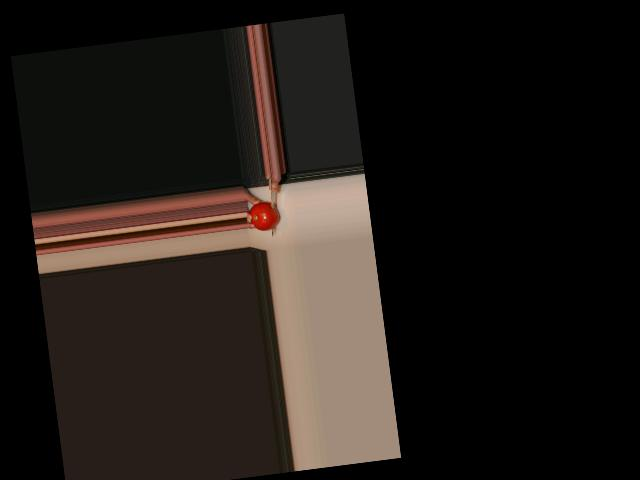tomato: (248, 200, 281, 232)
